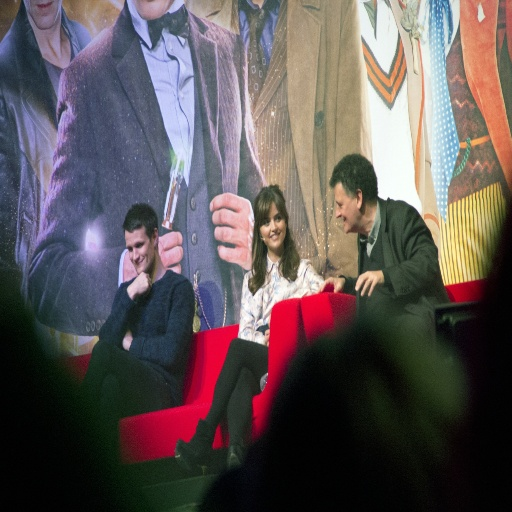hand: (208, 189, 255, 271), (122, 230, 182, 280), (353, 268, 384, 296), (127, 268, 152, 300), (316, 276, 345, 293), (120, 321, 132, 350), (262, 326, 269, 347)
